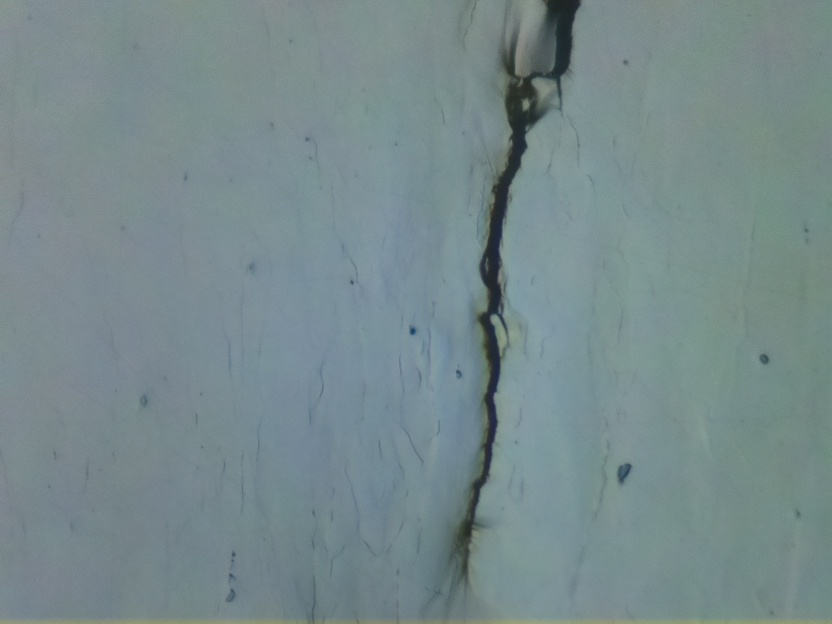crack: (447, 0, 582, 581)
